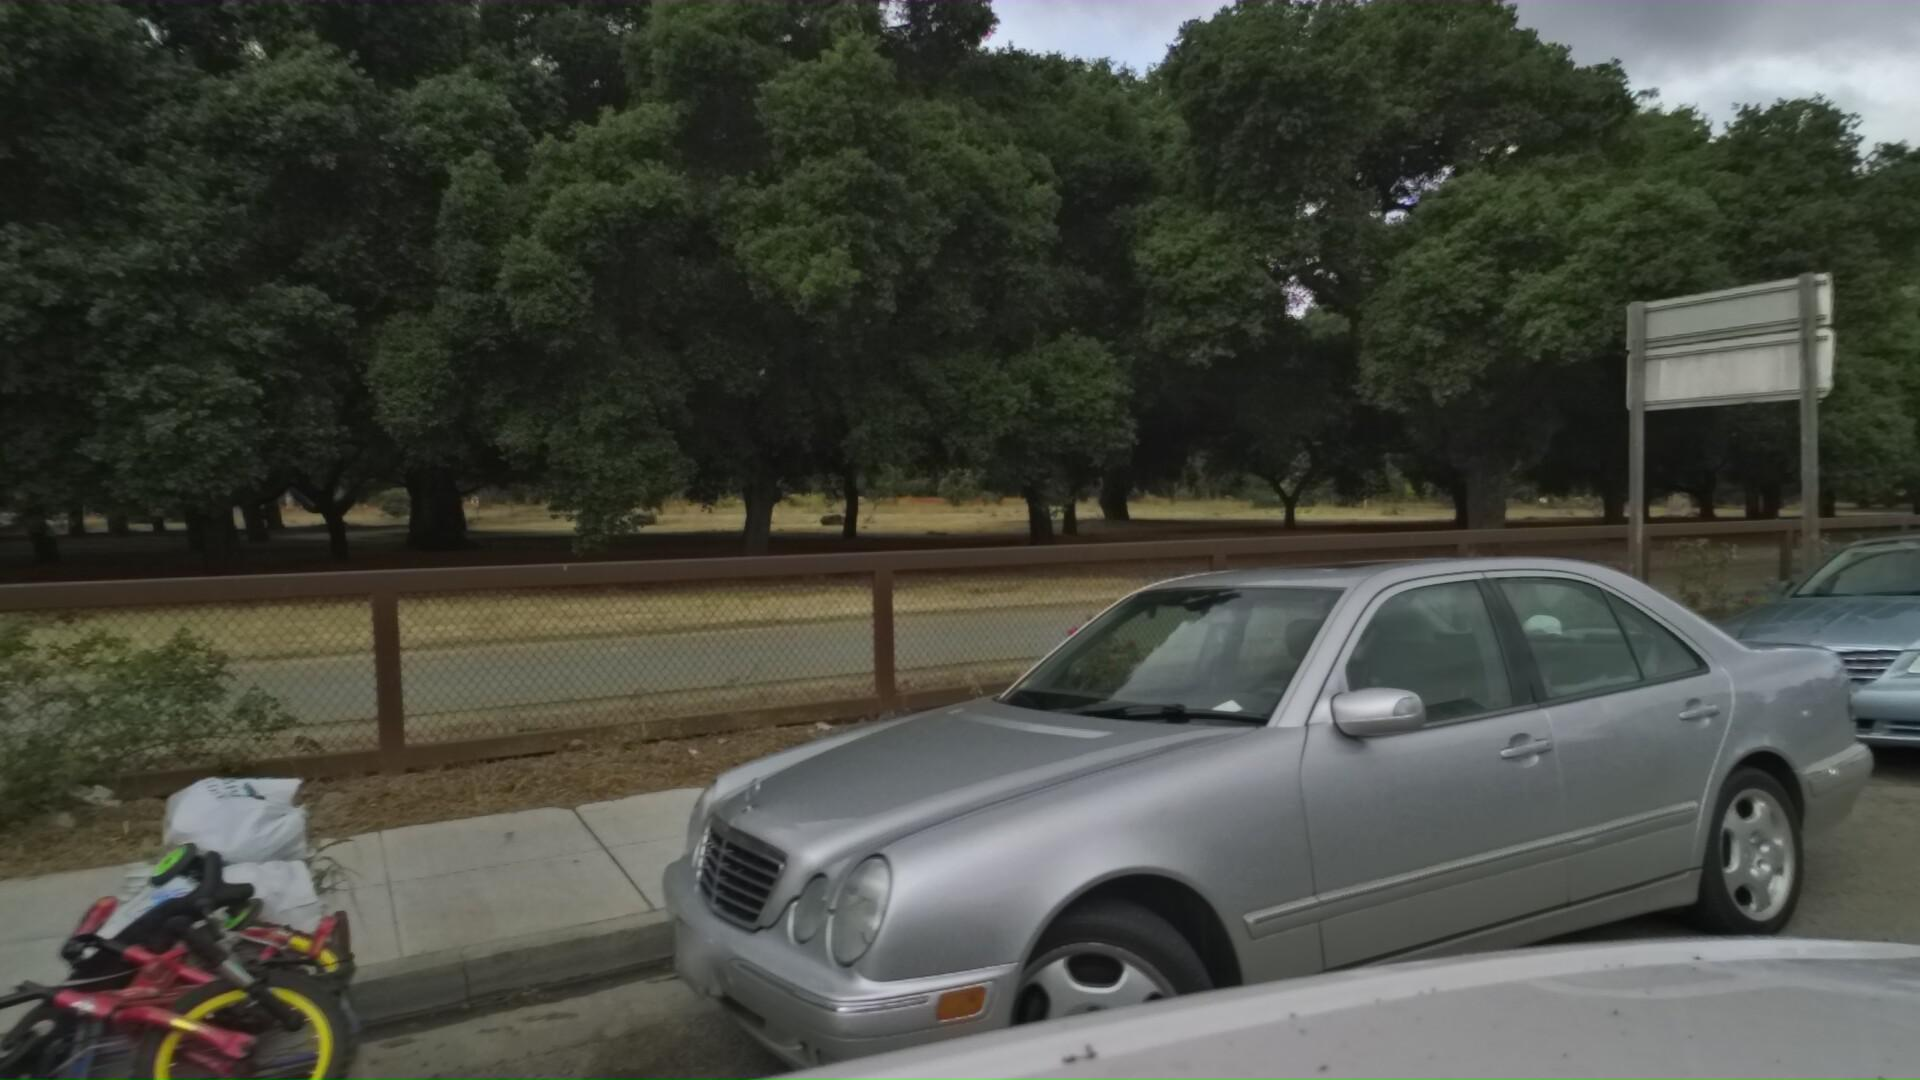car: (705, 549, 1920, 1080), (1681, 526, 1920, 855)
